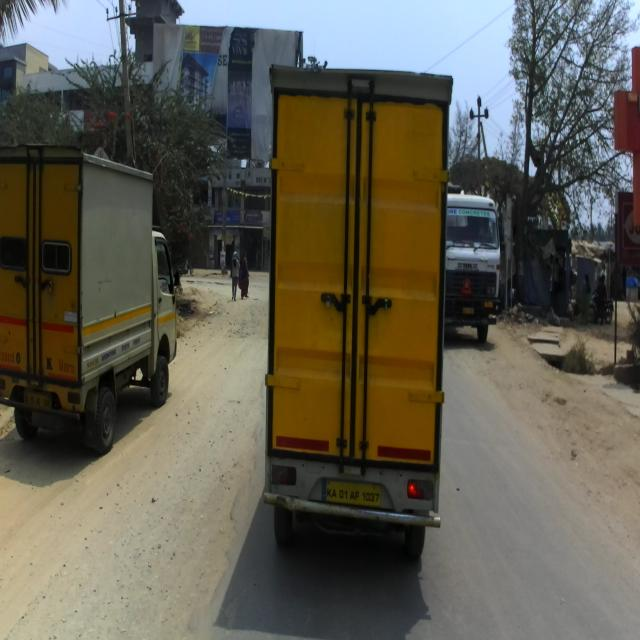electric pole ahead at: (99, 0, 149, 132)
truck ahead at: (267, 52, 449, 566), (5, 135, 182, 456), (450, 194, 502, 346)
